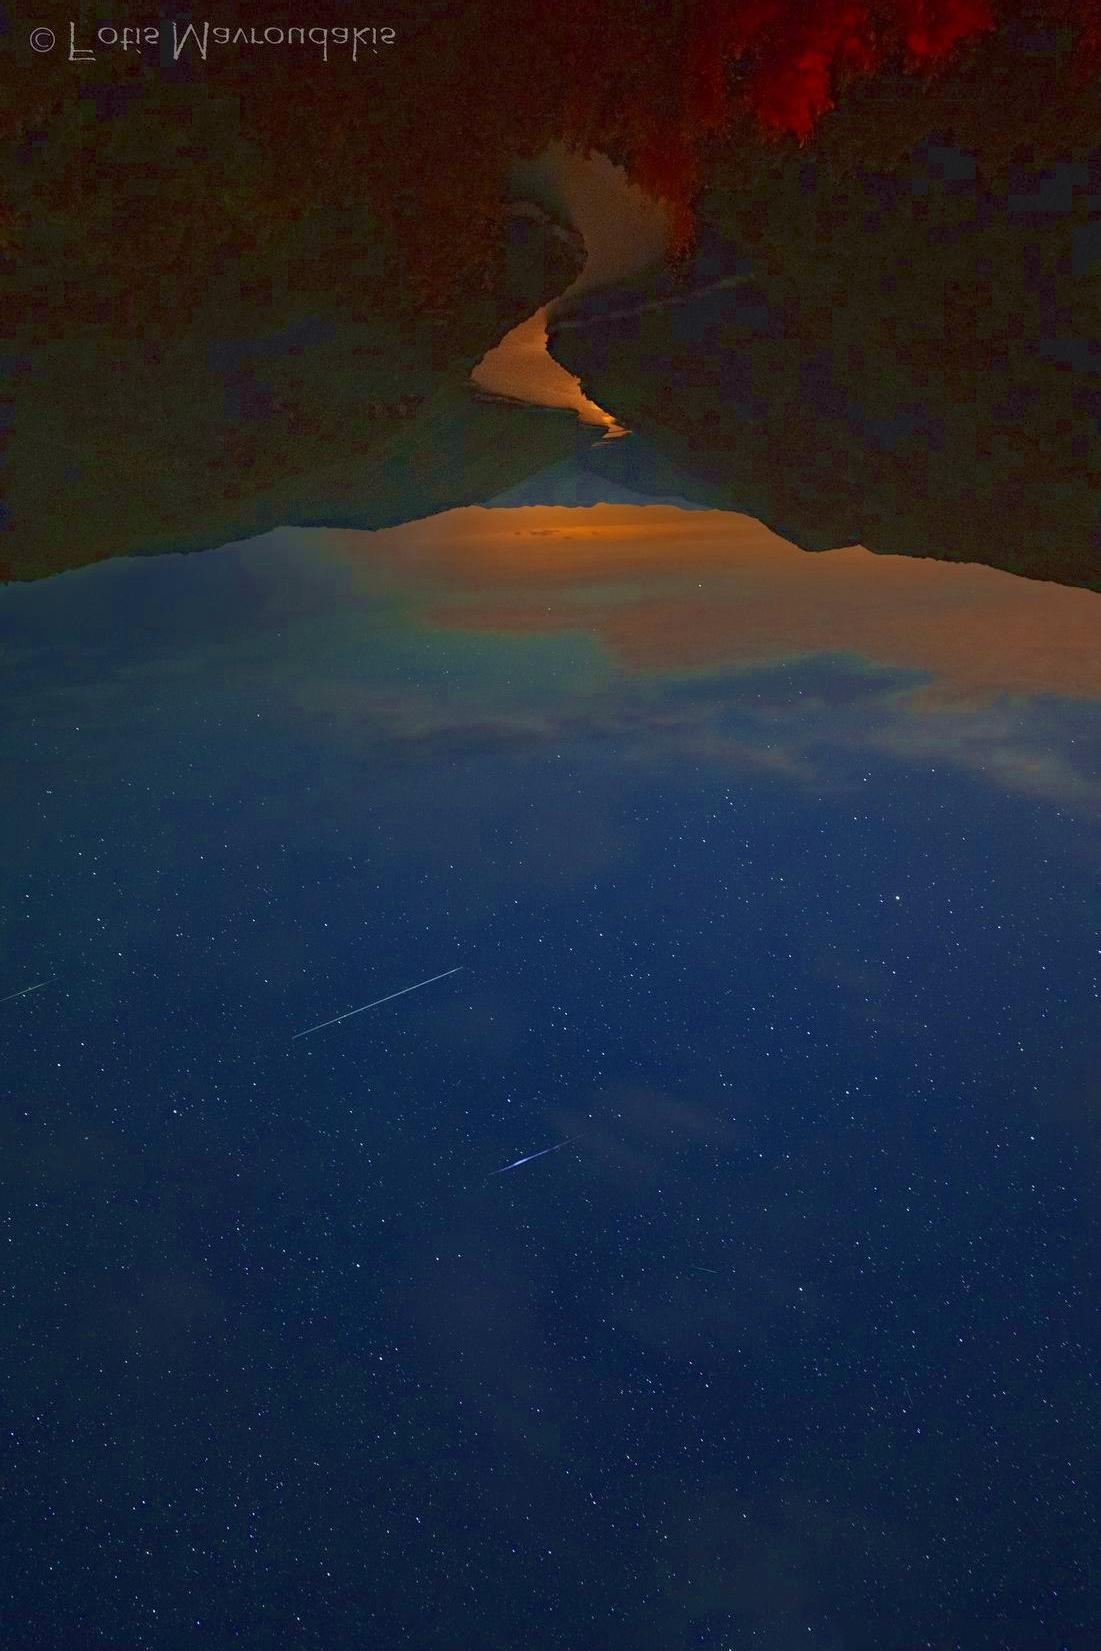meteorite: (291, 961, 482, 1055), (463, 1131, 591, 1206), (0, 970, 98, 1028)
